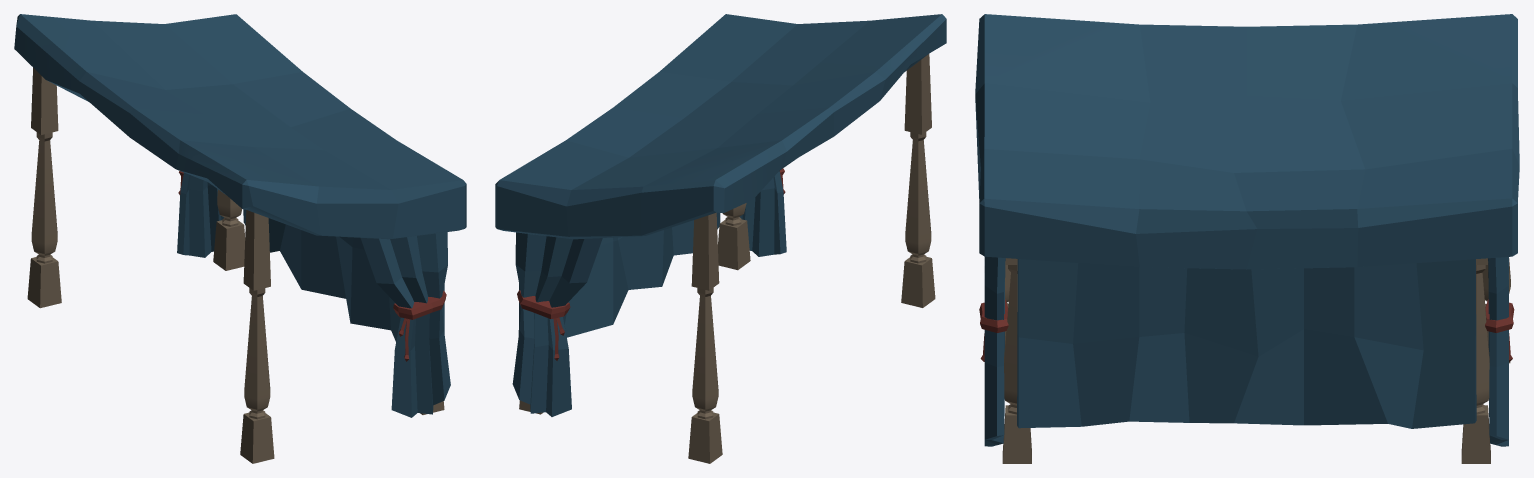
Rendered from prop_market_stall.gltf.
The picture shows the model from 3 angles, left to right: view 1: azimuth 30°, elevation 25°; view 2: azimuth 150°, elevation 25°; view 3: azimuth 270°, elevation 25°; orthographic projection. The views are drawn at different scales.
Parts seen in each view (by area): view 1: prop_market_stall; view 2: prop_market_stall; view 3: prop_market_stall.
Part boxes in pixels (x1=…): prop_market_stall: x1=14, y1=14, x2=466, y2=463; prop_market_stall: x1=495, y1=14, x2=946, y2=463; prop_market_stall: x1=975, y1=14, x2=1519, y2=463.
Bounding box in the file's own units: 2.42 × 2.87 × 4.25.
Materials: 1 (1 with a texture image).
